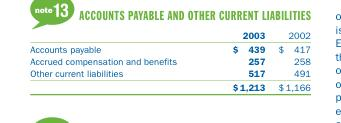table: (29, 29, 309, 91)
table column: (29, 29, 203, 91), (203, 29, 270, 91), (270, 29, 309, 91)
table column header: (29, 29, 309, 41)
table row: (29, 41, 309, 54), (29, 66, 309, 79), (29, 29, 309, 41), (29, 54, 309, 66), (29, 79, 309, 91)
